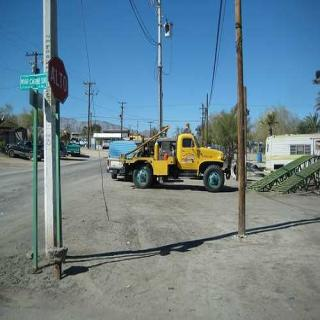Towing_truck: (117, 122, 231, 193)
